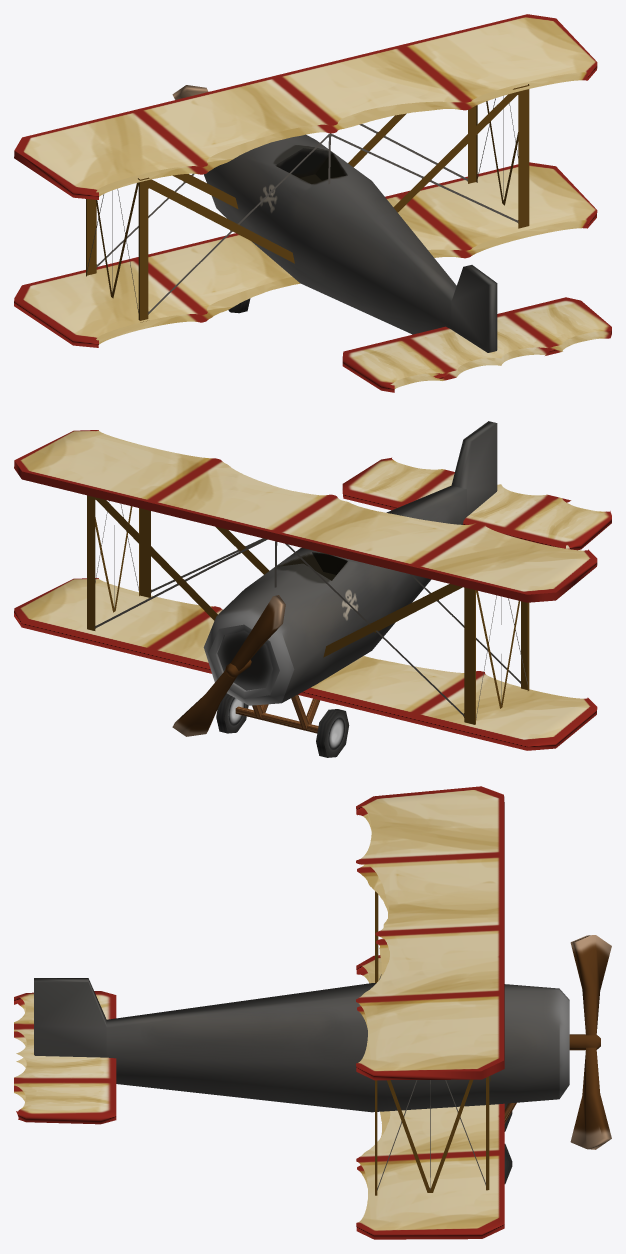
The model's file is Mesh_BiPlane.fbx.
3 views of the same model, one above another, from view 1: azimuth 30°, elevation 25°; view 2: azimuth 150°, elevation 25°; view 3: azimuth 270°, elevation 25° (orthographic). The views are drawn at different scales.
Visible parts, largest first — view 1: BiPlane; view 2: BiPlane, Blades; view 3: BiPlane, Blades.
Part boxes in pixels (box(x1,y1,x2,y2)): BiPlane: box(14, 14, 611, 392); BiPlane: box(14, 421, 611, 757); Blades: box(172, 595, 285, 736); BiPlane: box(14, 786, 569, 1239); Blades: box(569, 935, 611, 1149).
Size of the model in its own units: 1695 by 650 by 1504.
